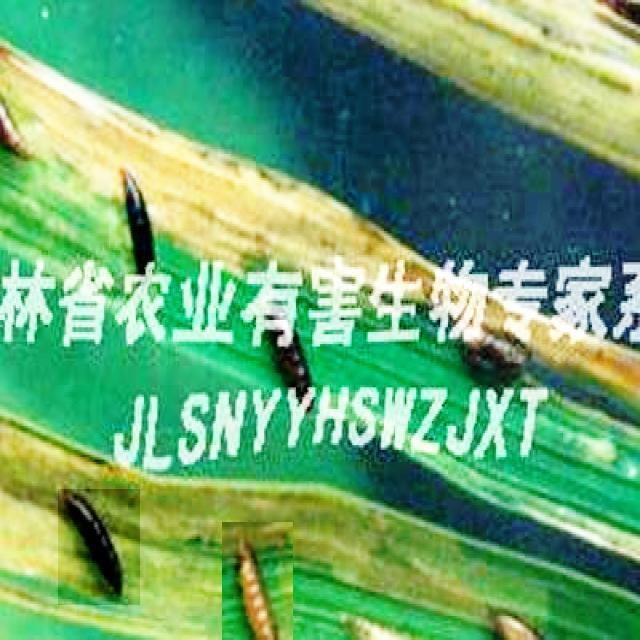whorl-maggot: (58, 489, 140, 605), (222, 522, 293, 640), (109, 162, 158, 250)
